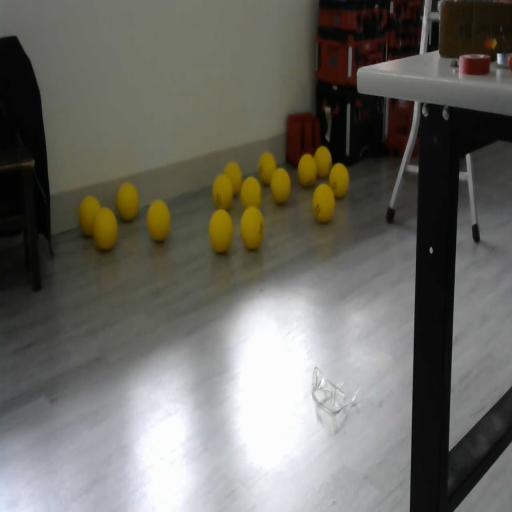FUEL: (208, 207, 234, 254), (92, 205, 118, 251), (240, 204, 264, 250), (146, 200, 172, 242), (312, 183, 336, 223), (116, 182, 138, 221), (211, 173, 234, 210), (328, 162, 350, 199), (240, 175, 262, 210), (257, 150, 277, 186), (314, 144, 332, 178), (298, 154, 316, 188)
